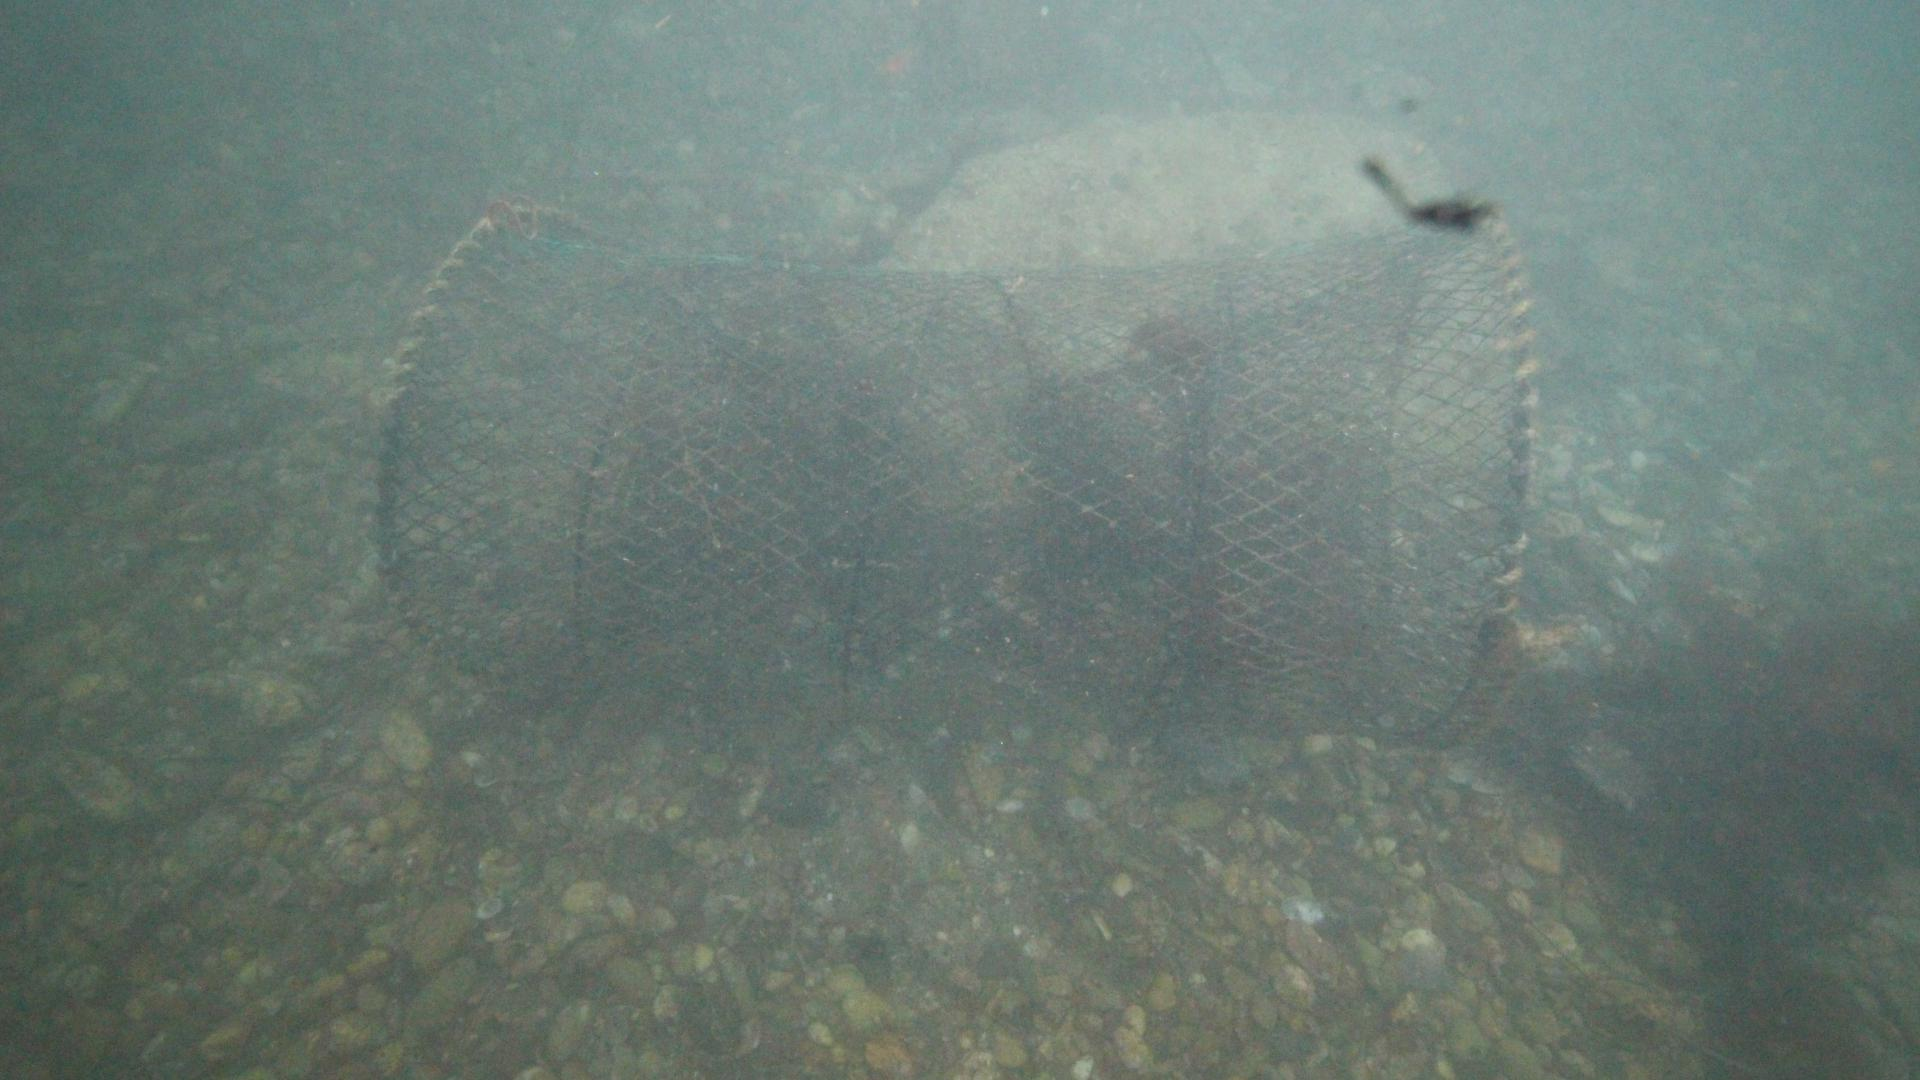spring fish trap: (371, 187, 1534, 738)
